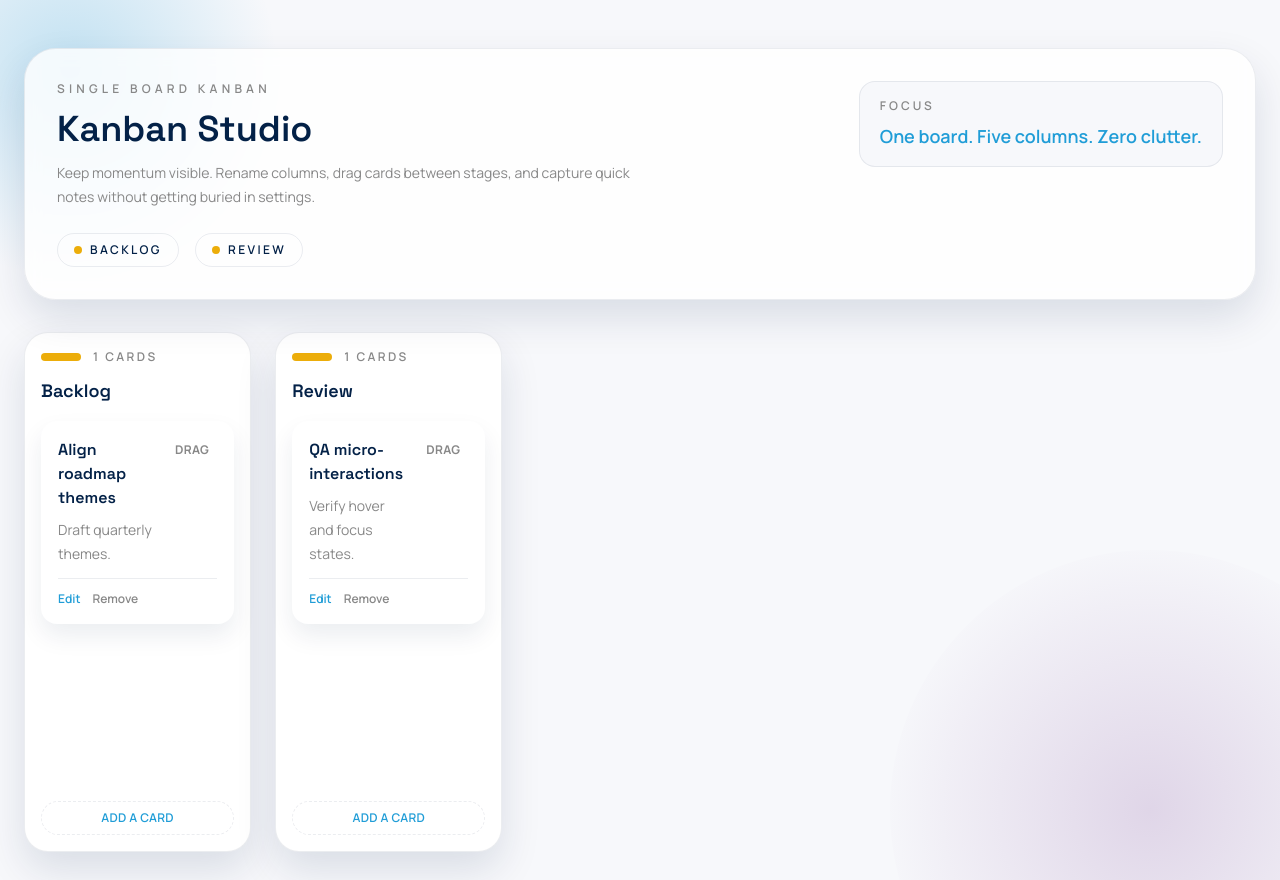
Test case: KanbanBoard › keeps card input visible and reports failed mutations
This screenshot has width=1280, height=880.
Expected: the heading "Kanban Studio" is shown, [57,106,312,152]
Click the button "Add a card" below "Draft quarterly themes.".
click(138, 818)  # box [41,801,234,835]
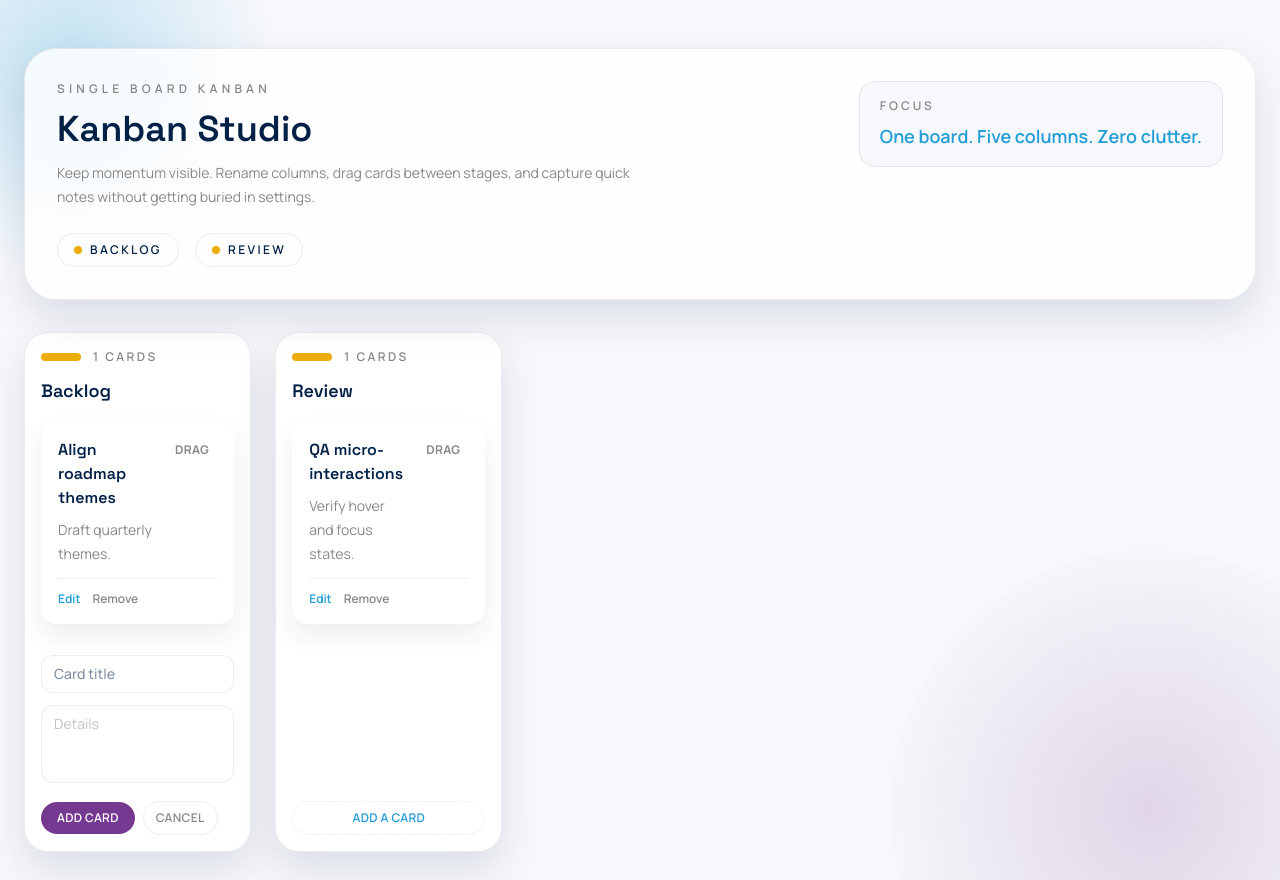
Type "Unsaved card" into the field with placeholder "Card title".
click(138, 674); type("Unsaved card")  # box [41,655,234,693]
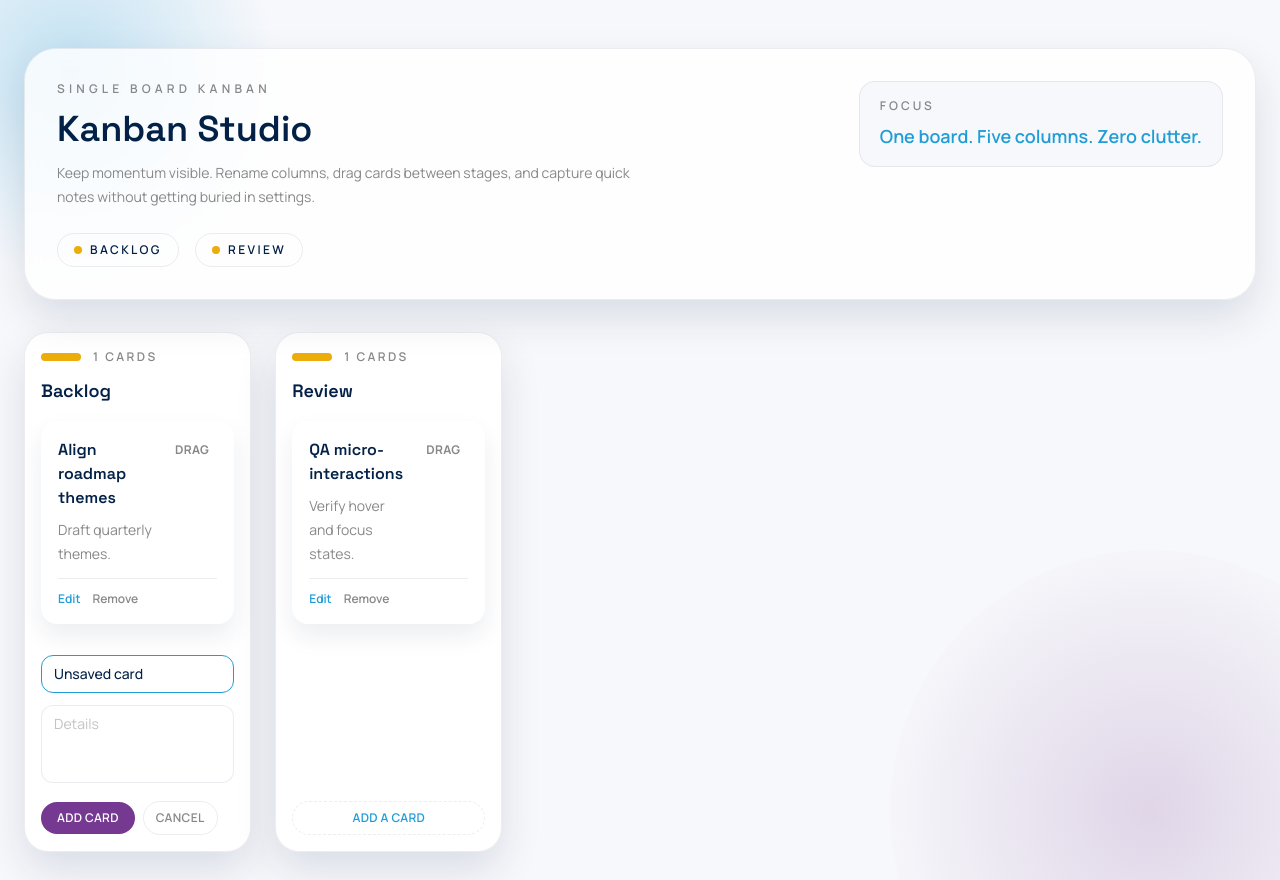
Click the button "Add card".
click(88, 818)  # box [41,802,135,834]
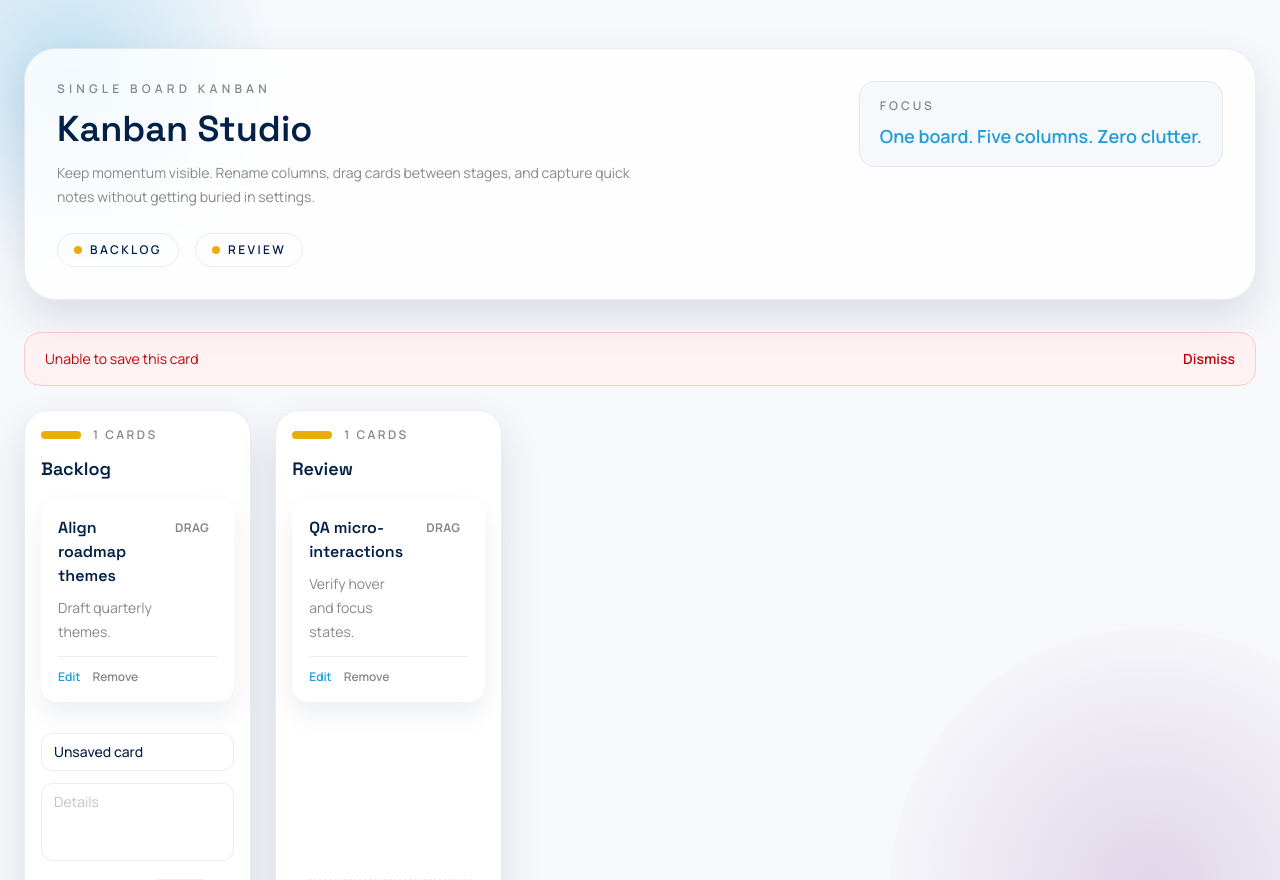
Result: the message shows "Unable to save this card" at [45,349,199,368]
